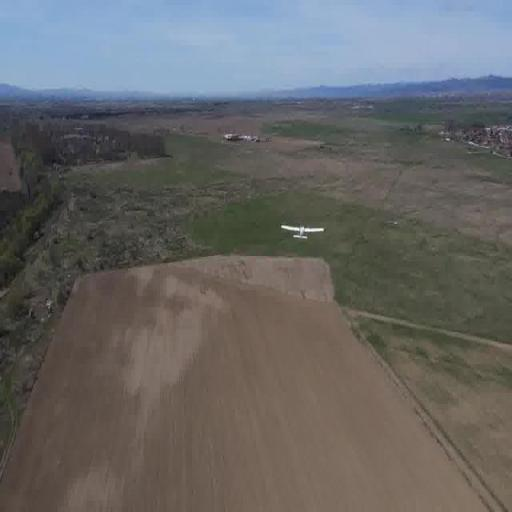uav: (280, 218, 330, 247)
